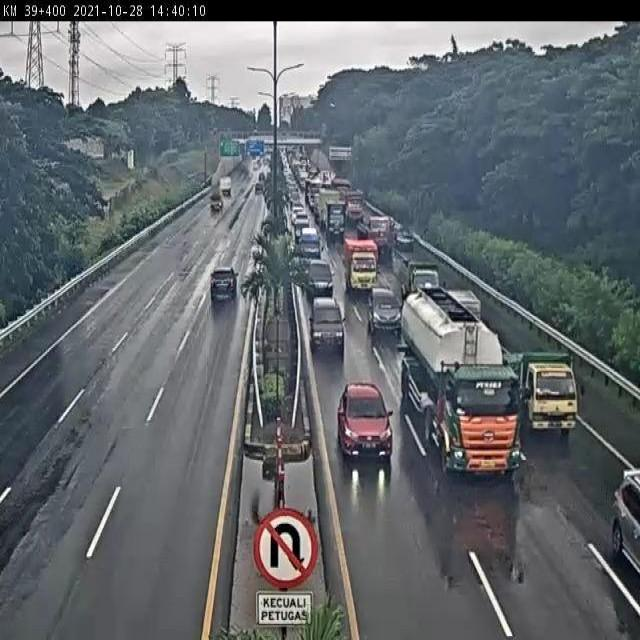car: (334, 383, 389, 457), (307, 292, 342, 341), (367, 280, 400, 329), (209, 267, 241, 300), (304, 257, 333, 291)
truck-m-: (505, 346, 579, 430), (342, 236, 379, 292), (398, 250, 441, 294)
truck-xl-: (401, 288, 522, 469)
